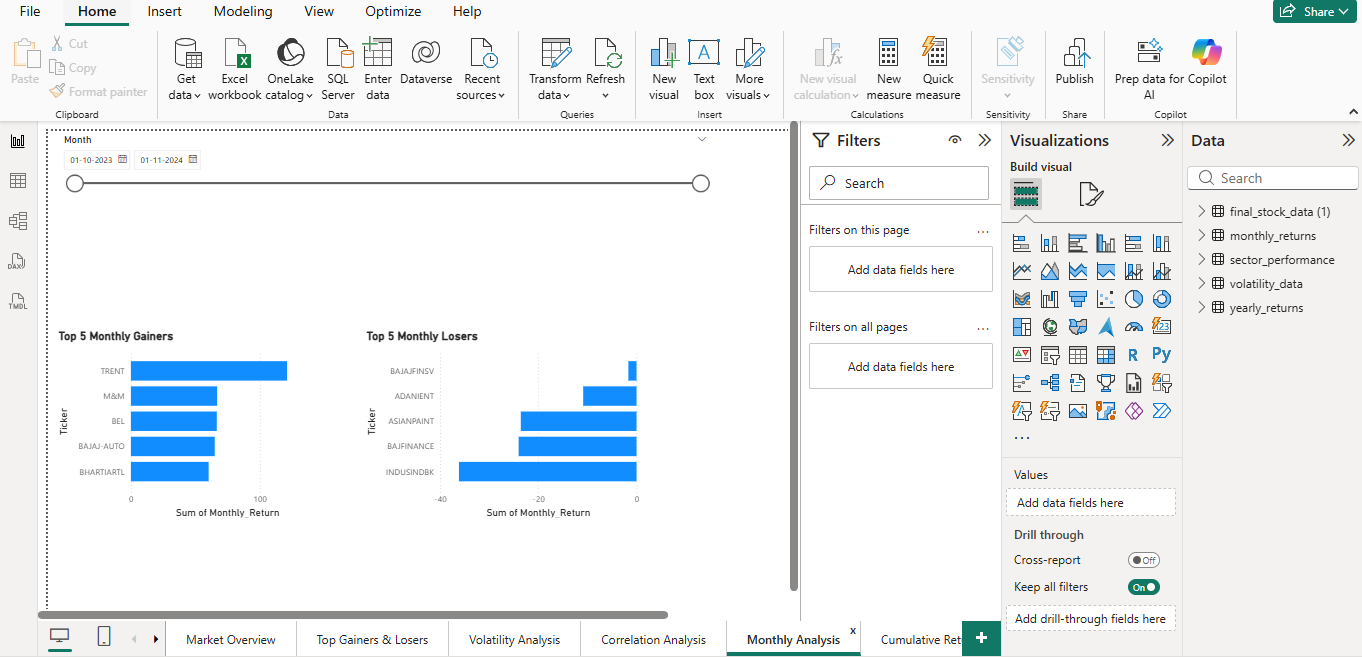

The page's visual inventory and layout, read from the dashboard file:
{"tool":"powerbi","page":{"name":"Monthly Analysis","canvas":[1280,720],"ordinal":4},"visuals":[{"type":"slicer","fields":{"Values":["monthly_returns.Month"]},"box":[9.5,0,956.8,241.9],"z":0},{"type":"clusteredBarChart","title":"Top 5 Monthly Gainers","fields":{"Category":["monthly_returns.Ticker"],"Y":["Sum(monthly_returns.Monthly_Return)"]},"box":[9.5,286.5,405.4,278.4],"z":1000},{"type":"clusteredBarChart","title":"Top 5 Monthly Losers","fields":{"Category":["monthly_returns.Ticker"],"Y":["Sum(monthly_returns.Monthly_Return)"]},"box":[456.8,286.5,405.4,278.4],"z":2000}]}

Visuals, with their boxes on the page's 1280x720 design canvas (x1, y1, x2, y2). These are canvas units, not pixel positions in the 1362x657 screenshot, which may show the page scaled, cropped or inside an application window:
slicer - monthly_returns.Month: pyautogui.locateOnScreen(10, 0, 966, 242)
"Top 5 Monthly Gainers" clusteredBarChart: pyautogui.locateOnScreen(10, 286, 415, 565)
"Top 5 Monthly Losers" clusteredBarChart: pyautogui.locateOnScreen(457, 286, 862, 565)
